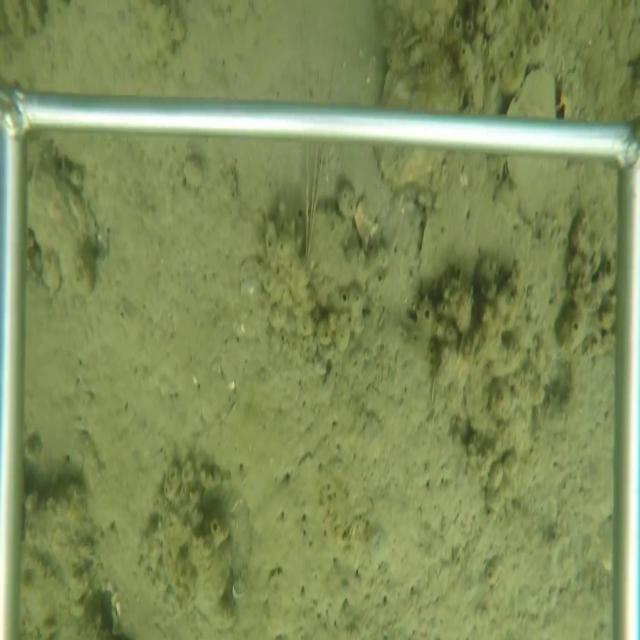Oyster-Closed: (158, 496, 232, 616), (504, 64, 561, 117)
Oyster-Indeterminate: (28, 169, 102, 285), (377, 38, 465, 112), (371, 144, 455, 194)
